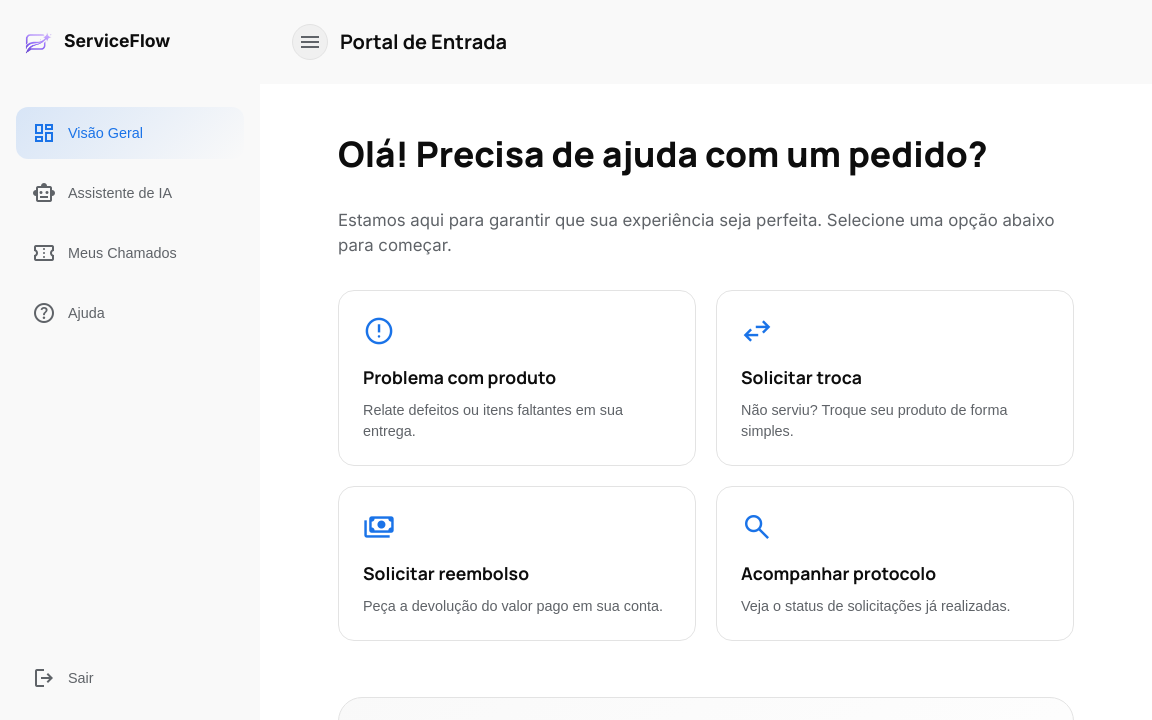
it: ChatPage › Ações Rápidas do Portal › deve navegar para o chat ao clicar em "Problema com produto"
Click the button "Problema com produto" at [517, 378], box [338,290,696,466]
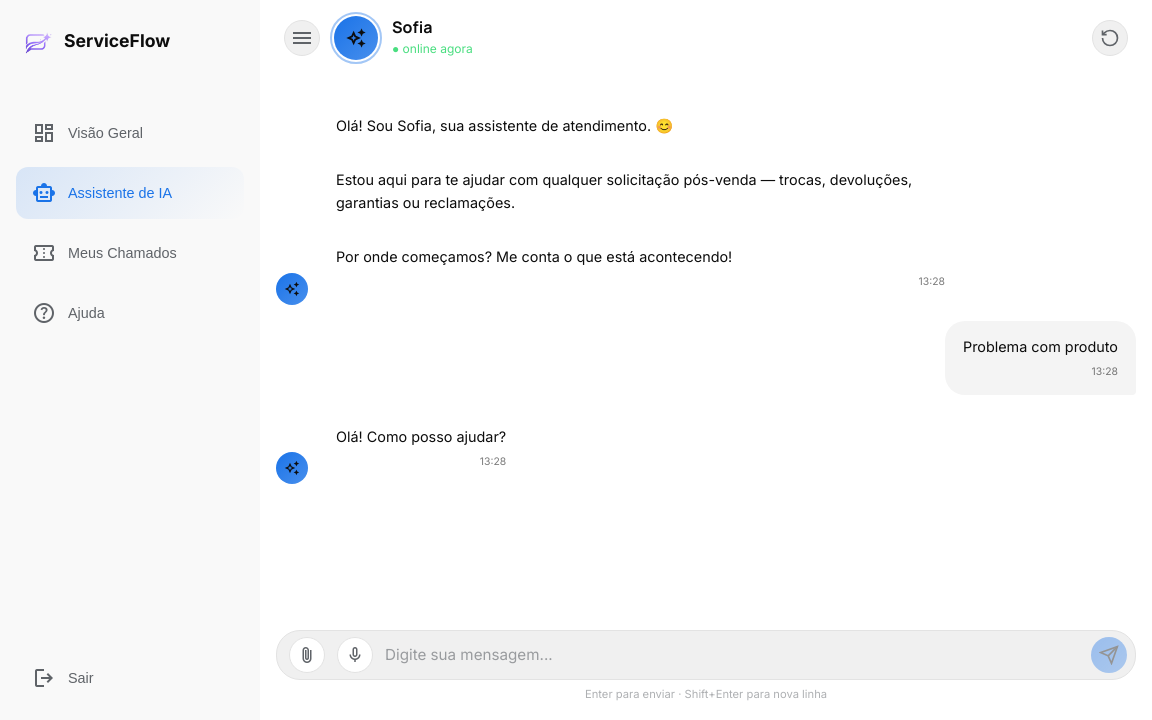
Now the heading "Sofia" is shown, box [392,16,432,38]
